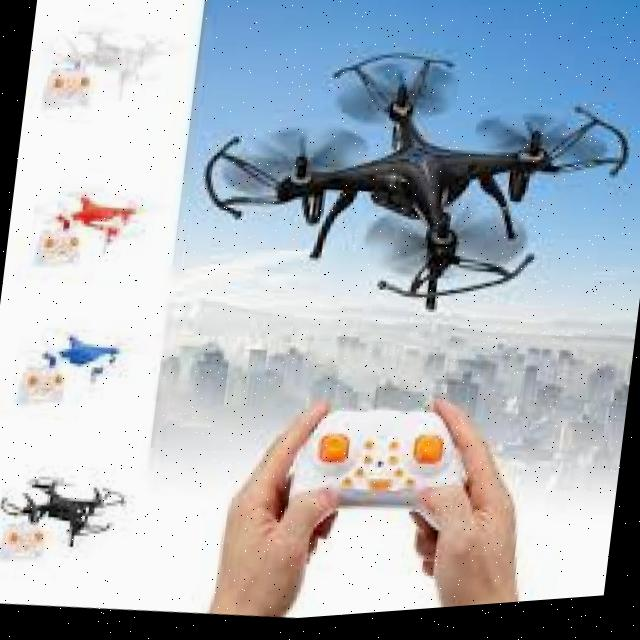drone: (187, 22, 640, 348), (0, 453, 127, 559), (60, 17, 176, 107), (52, 174, 144, 260), (38, 315, 126, 390)
